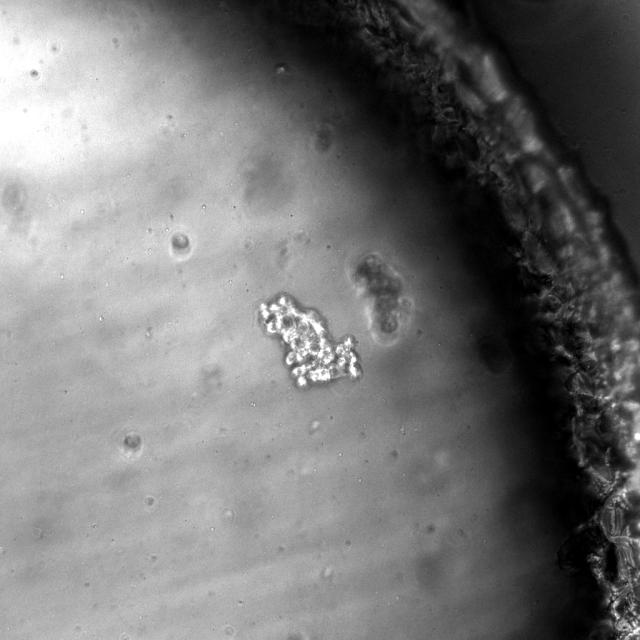organoid: (259, 293, 362, 387), (349, 252, 412, 345), (476, 334, 509, 373), (124, 433, 141, 450), (172, 233, 188, 250)
